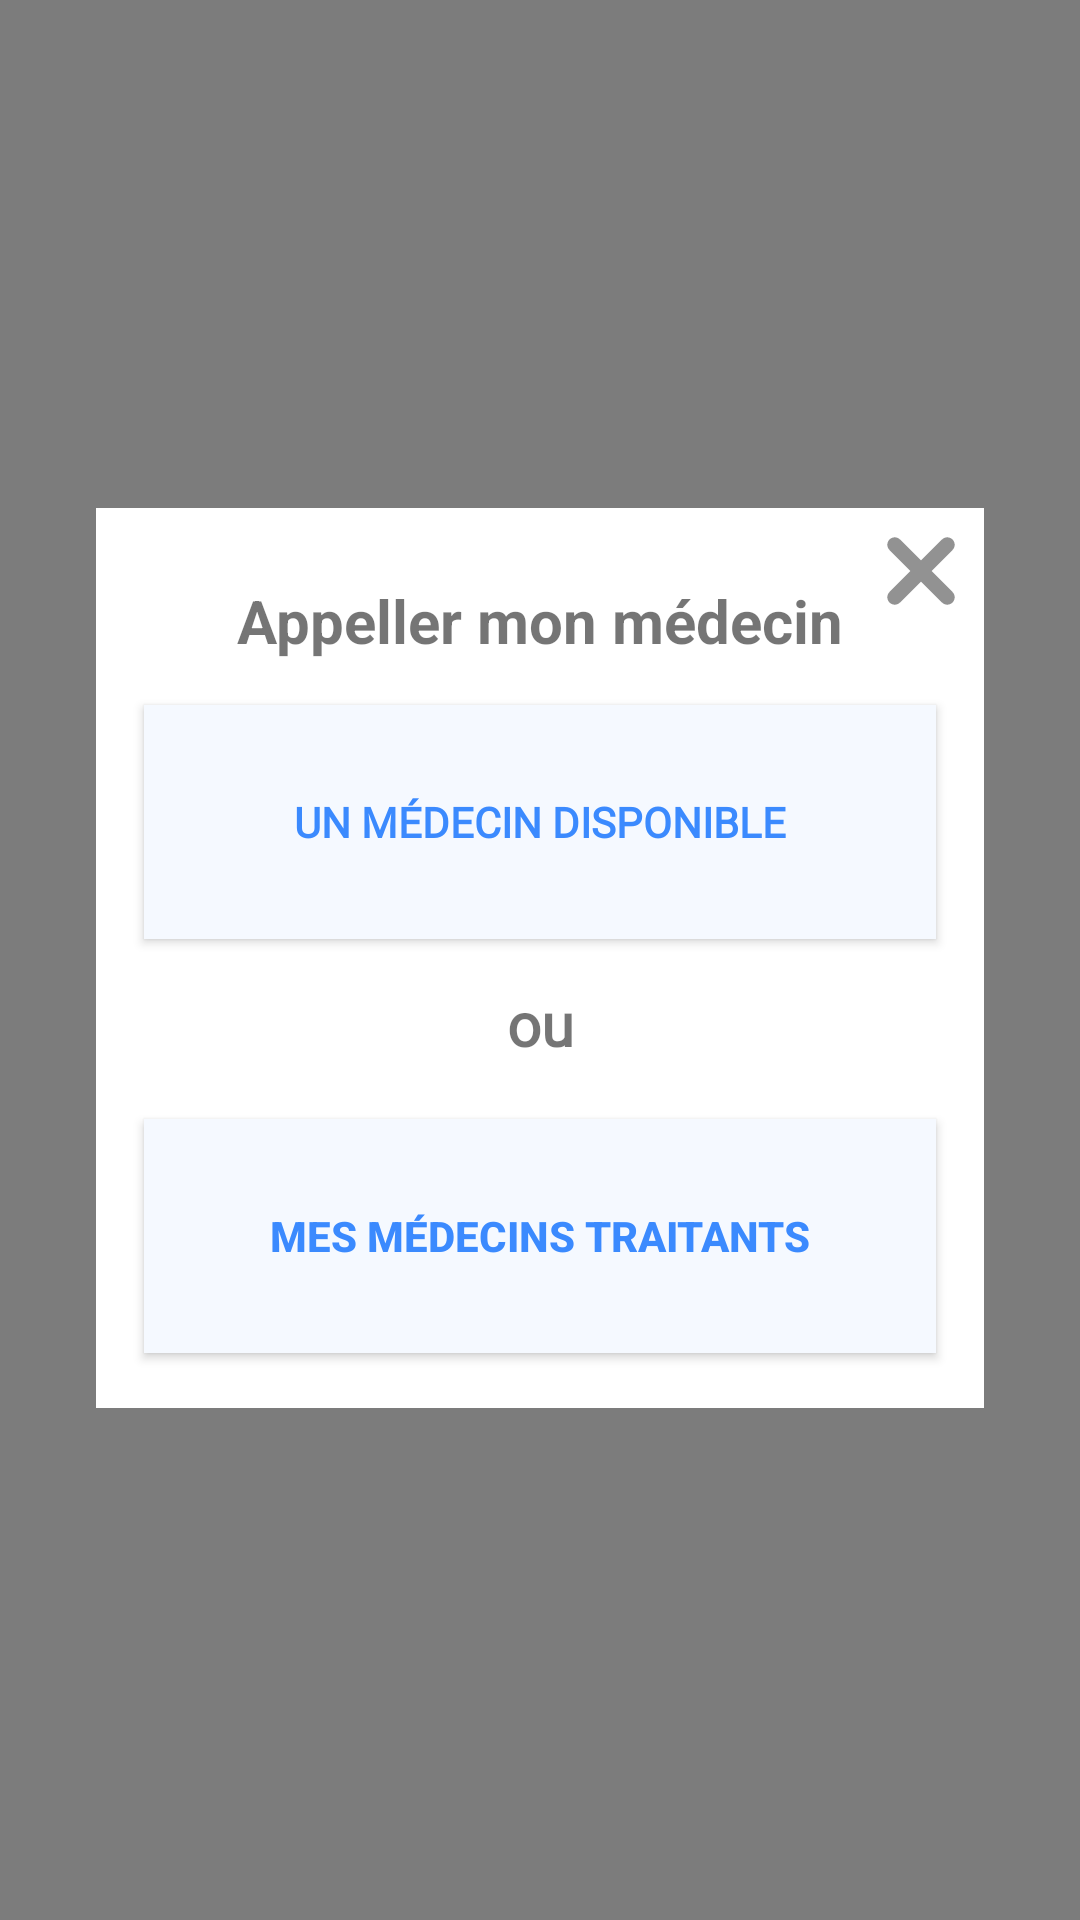

Locate icon controls on the screen. Image size 1080px x 1920px, boxes as (x1, y1, x2, y2).
croix: (887, 537, 955, 605)
